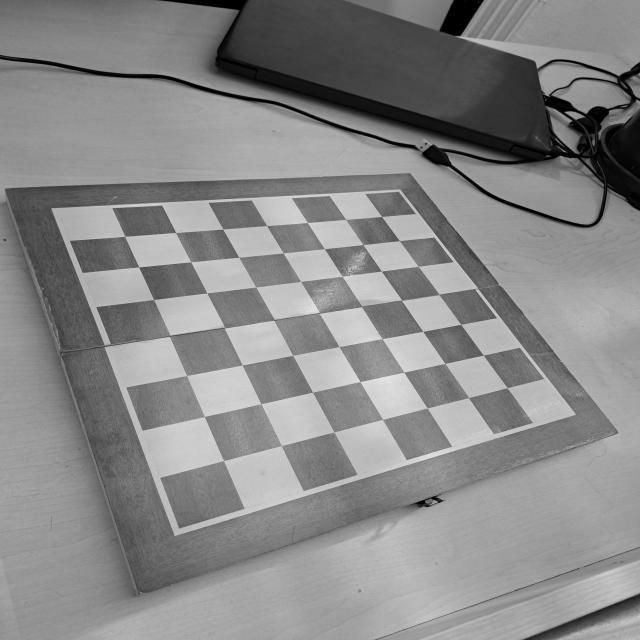chess-table-corners: (163, 518, 194, 540), (45, 204, 71, 222), (556, 404, 582, 420), (388, 184, 408, 200)
